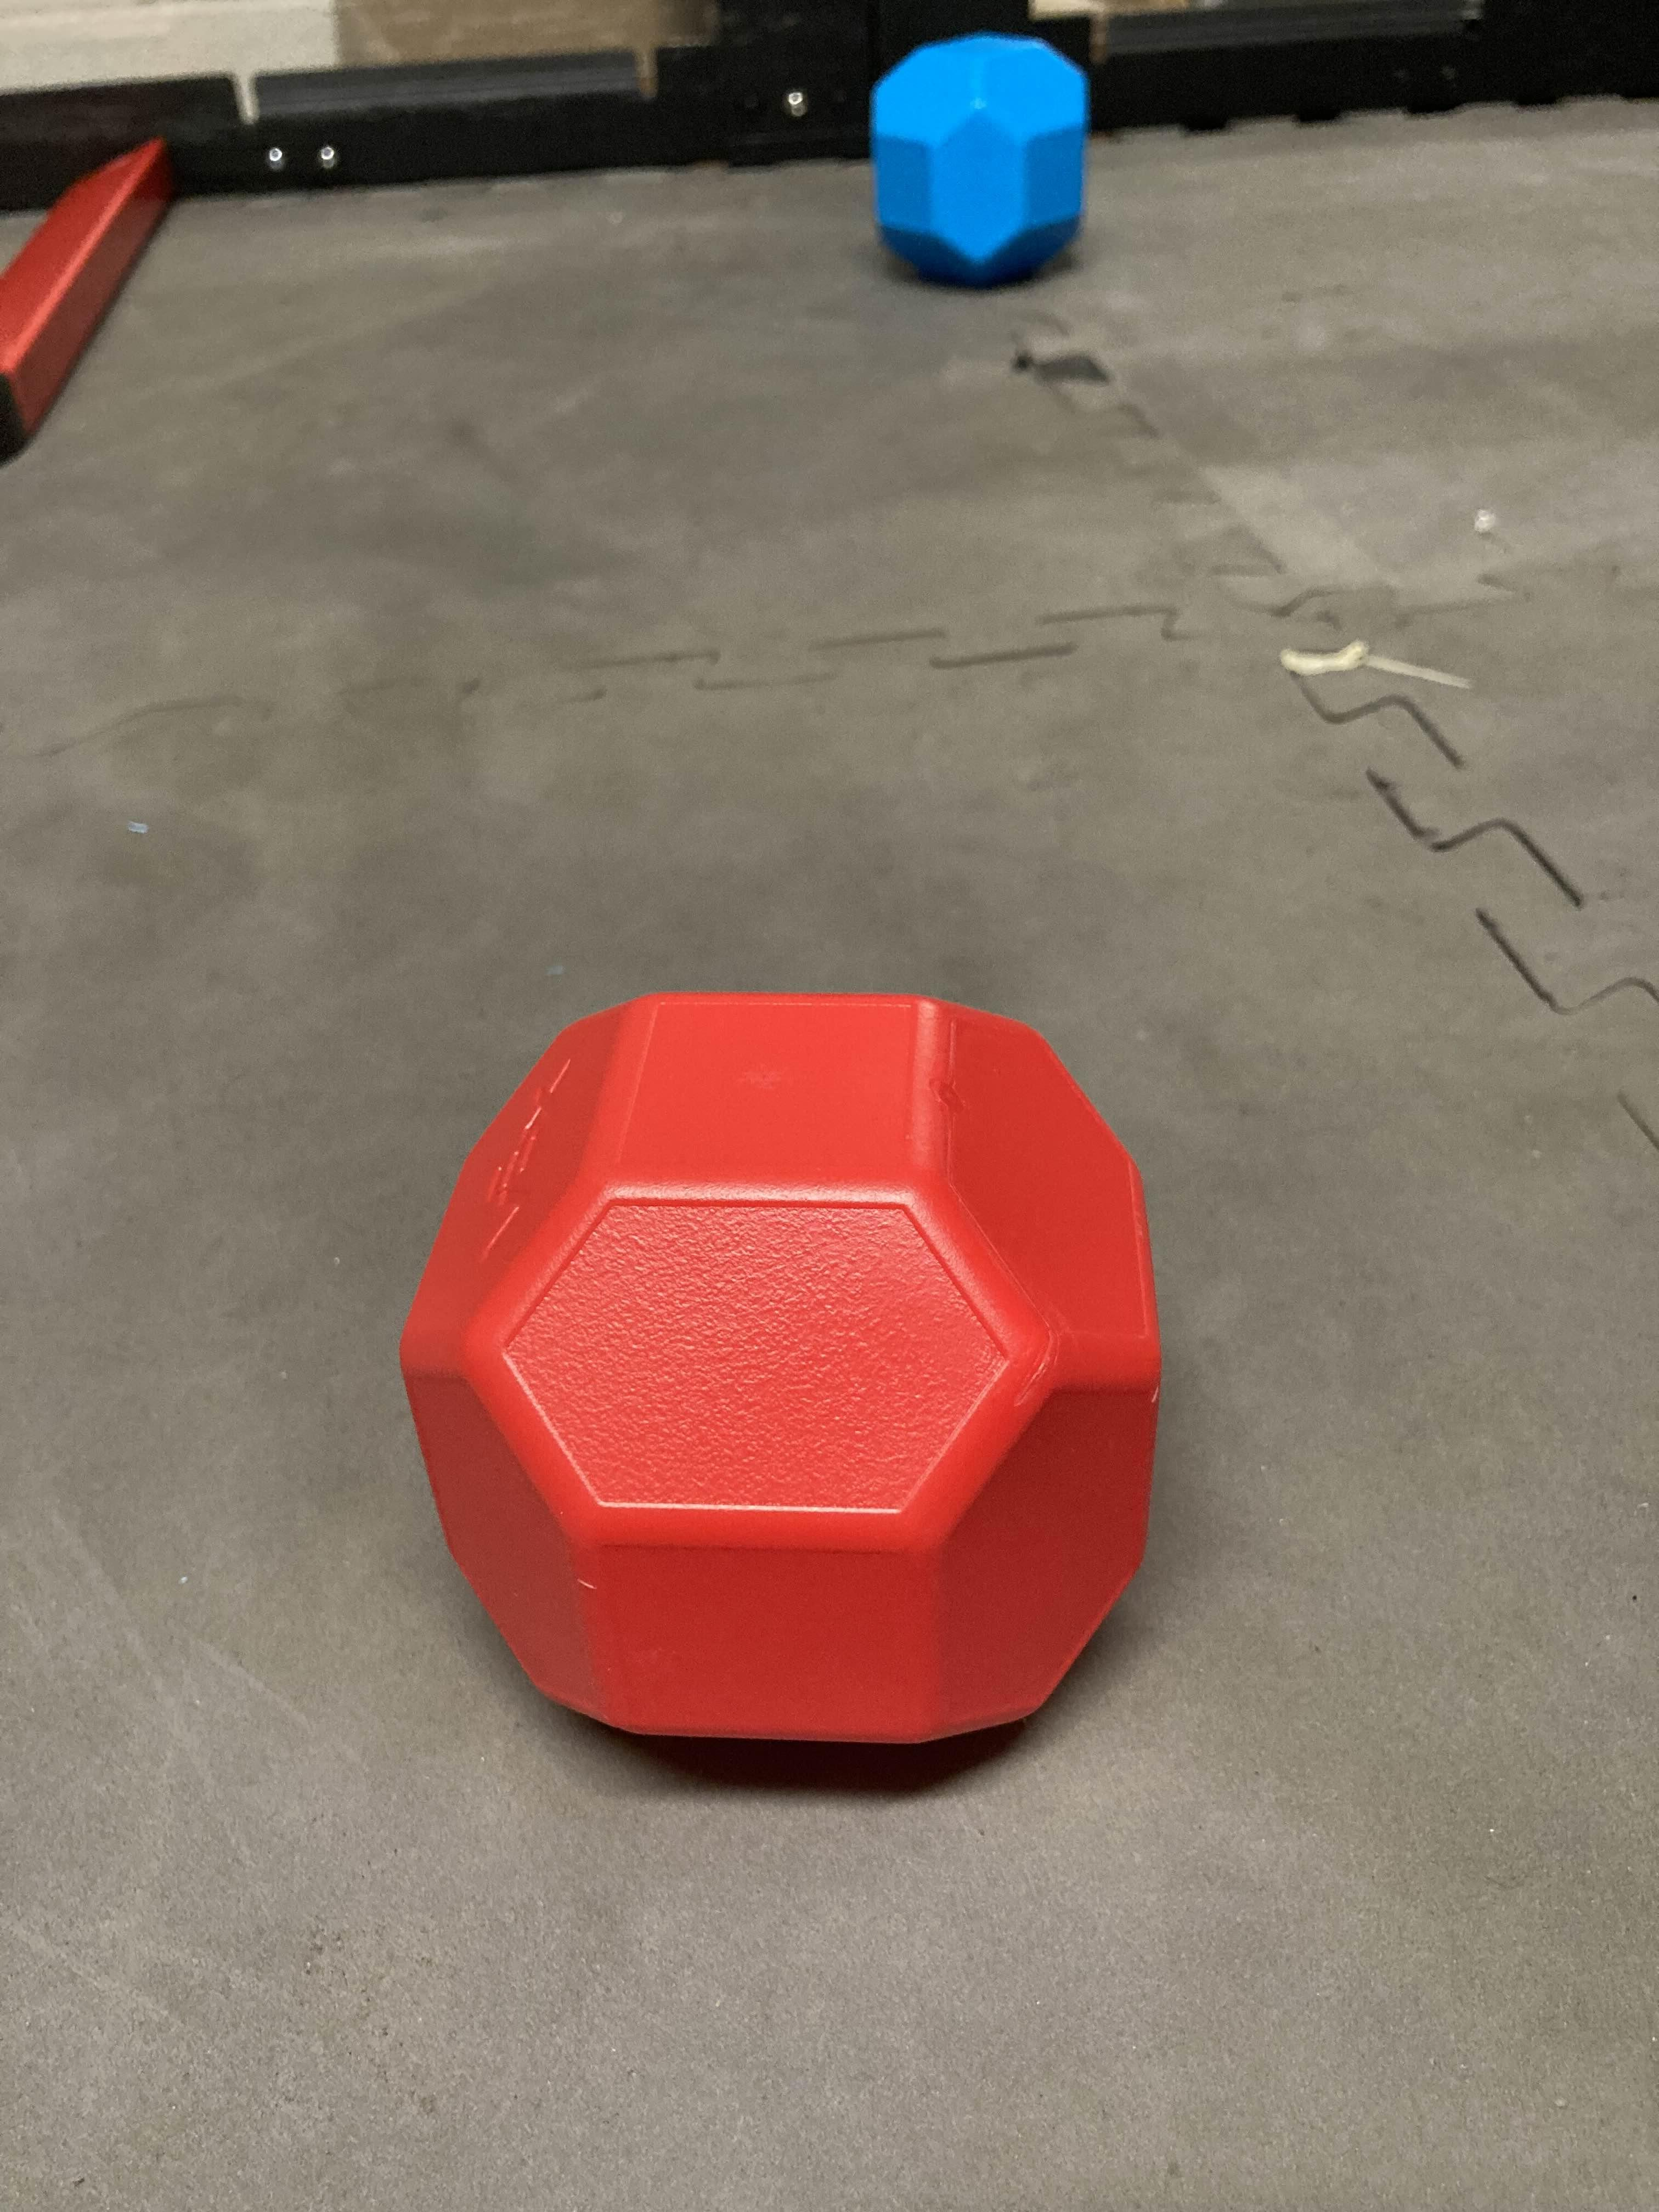Vex-Pieces-BLUE: (871, 33, 1091, 296)
Vex-Pieces-RED: (396, 995, 1166, 1757)
